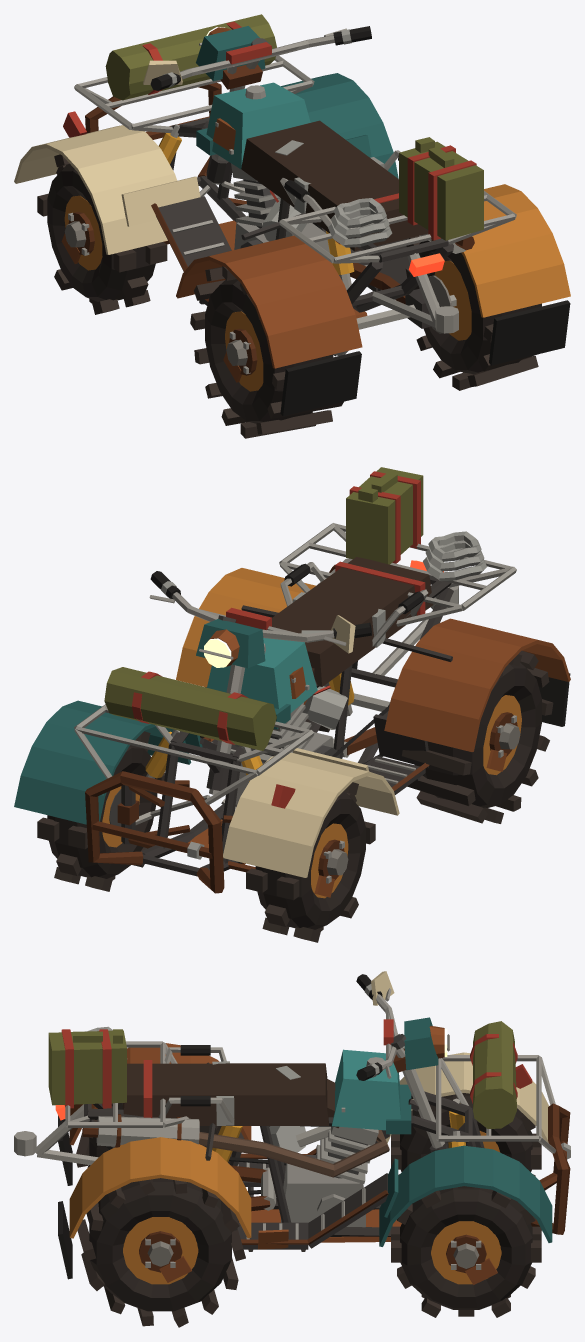
Rendered from quadbike.glb.
3 views of the same model, one above another, from view 1: azimuth 30°, elevation 25°; view 2: azimuth 150°, elevation 25°; view 3: azimuth 270°, elevation 25° (orthographic). The views are drawn at different scales.
Parts seen in each view (by area): view 1: Body, RearAxle, WheelFL, Handlebar; view 2: Body, RearAxle, WheelFL, Handlebar, WheelFR, SteerFR; view 3: Body, RearAxle, WheelFR, Handlebar, WheelFL.
Boxes of the visible parts, <box> form: Body: <box>14,14,570,416</box>; RearAxle: <box>190,236,541,438</box>; WheelFL: <box>37,154,167,314</box>; Handlebar: <box>143,26,371,184</box>; Body: <box>14,467,570,893</box>; RearAxle: <box>200,650,553,823</box>; WheelFL: <box>246,782,375,942</box>; Handlebar: <box>149,571,371,794</box>; WheelFR: <box>37,731,165,891</box>; SteerFR: <box>109,785,152,844</box>; Body: <box>14,1021,570,1279</box>; RearAxle: <box>76,1103,245,1327</box>; WheelFR: <box>391,1186,541,1317</box>; Handlebar: <box>356,971,449,1148</box>; WheelFL: <box>391,1093,541,1176</box>.
Size of the model in its own units: 1.25 by 1.1 by 2.22.
